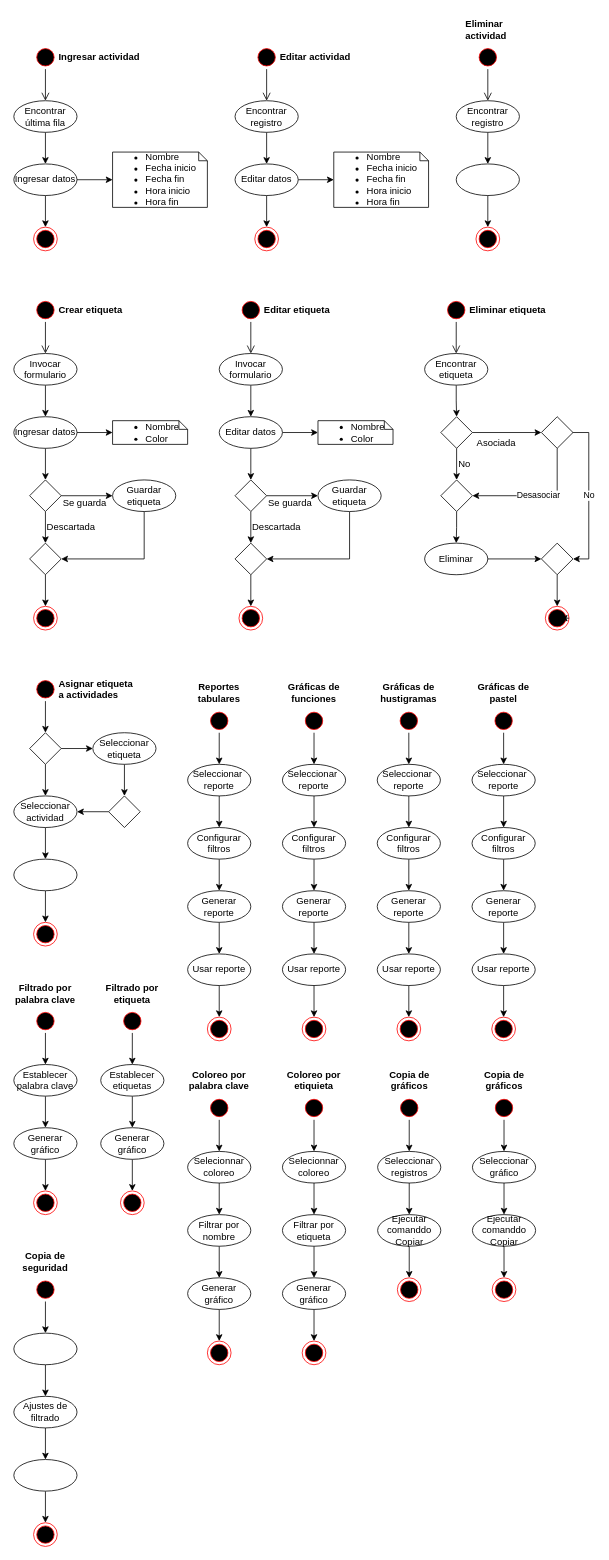
Some shapes in this 609 by 1560 pixel diagram are drawn without their labels. Each missing label, with the box of its shape:
Ajustes de exportaciión: (13, 1332, 77, 1365)
Asociar etiqueta: (13, 858, 77, 891)
Borrar fila: (455, 163, 519, 196)
Iniciar exportación: (13, 1459, 77, 1491)
